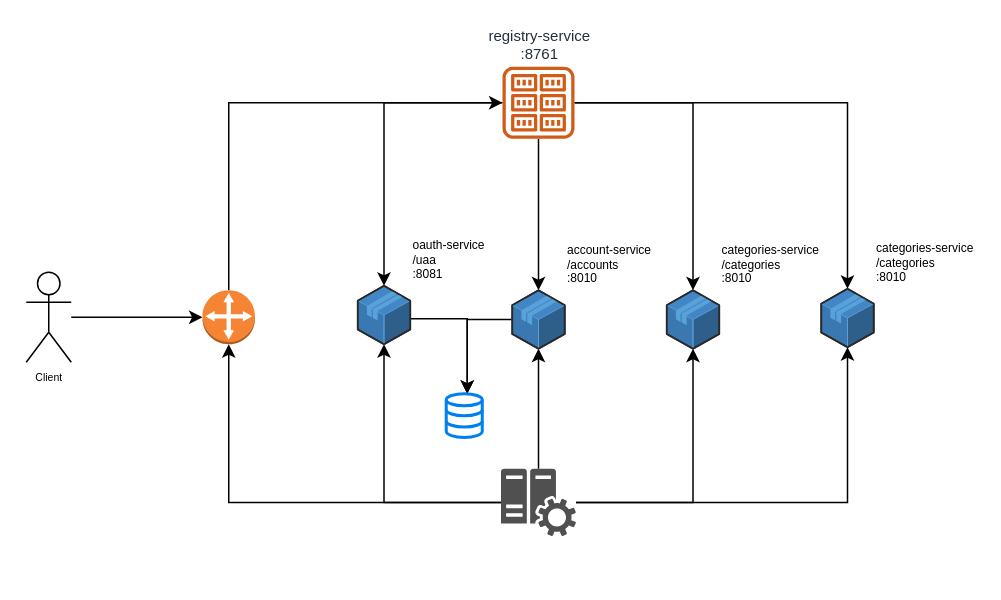
Some shapes in this 1001 by 600 pixel diagram are drawn without their labels. Here are the shapes that lost their labels. From the top down, the centre of each, then its label:
At (x=228, y=316): "Gateway Service :8080".
At (x=463, y=415): "mongoDB".
At (x=537, y=502): "Config server :8888".
